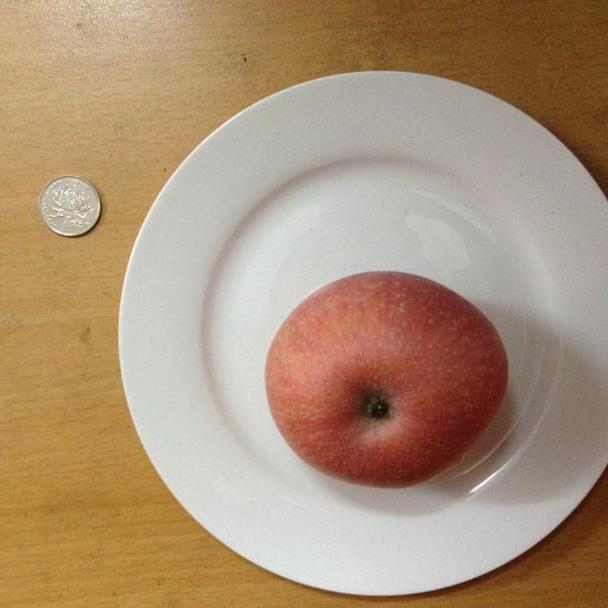apple: (264, 271, 507, 488)
